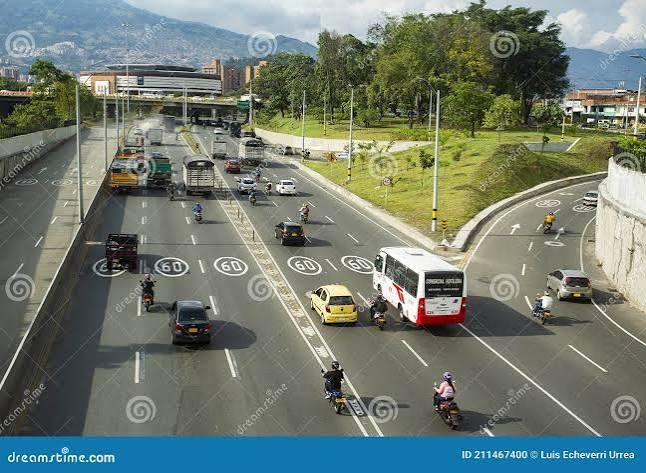car: (147, 122, 572, 379), (454, 286, 646, 441), (460, 169, 619, 325), (373, 245, 465, 328), (374, 246, 465, 329), (168, 303, 219, 347), (315, 286, 362, 325)
